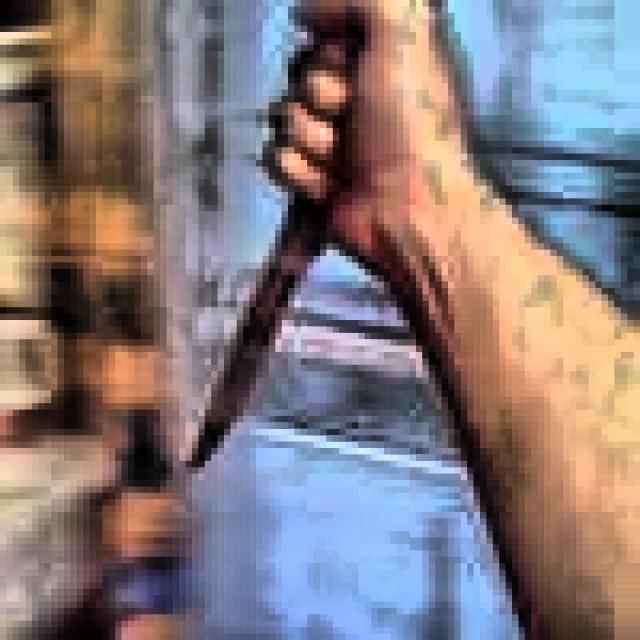knife: (182, 5, 442, 476)
